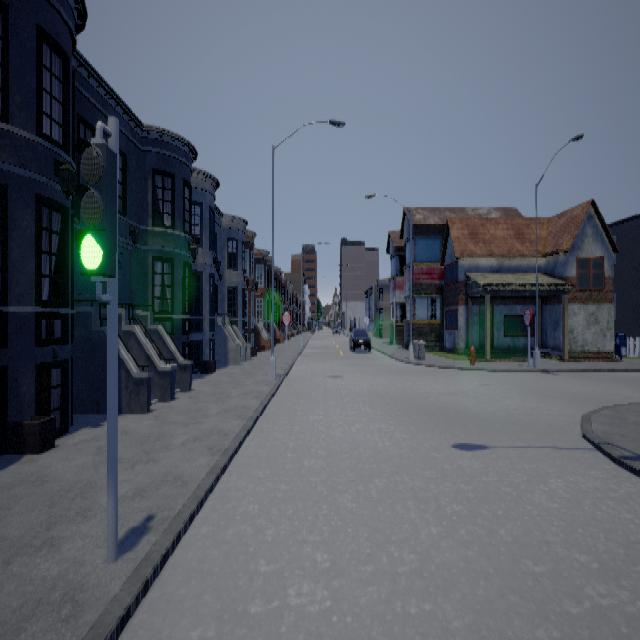green_light: (75, 120, 118, 303)
traffic_sign: (525, 307, 533, 325), (283, 310, 292, 323)
vehicle: (350, 327, 372, 350)
